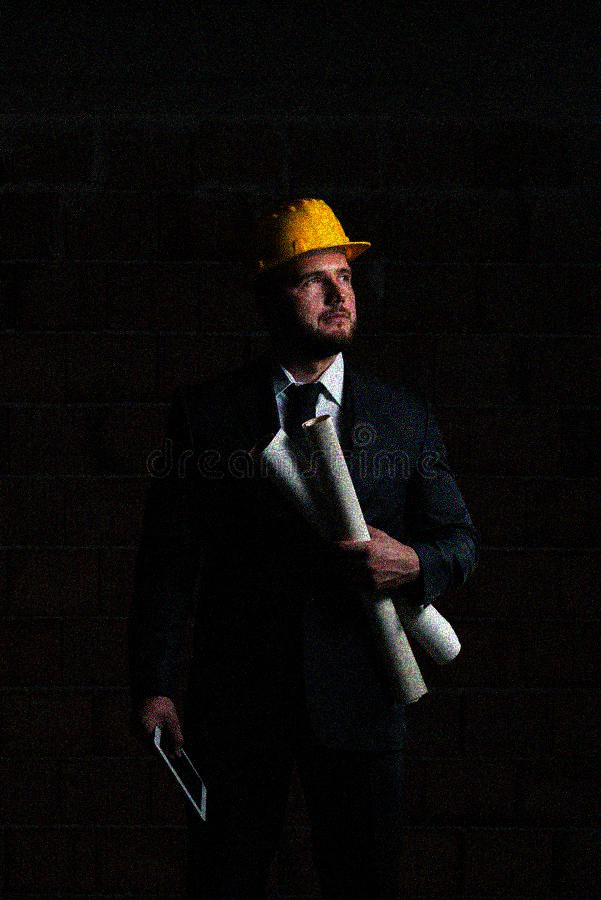helmet: (237, 195, 374, 355)
